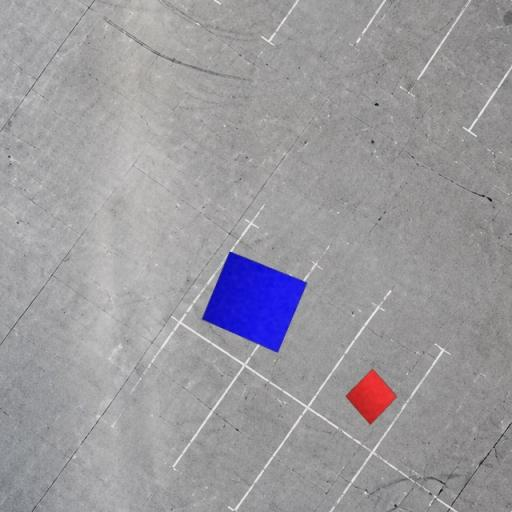BLUE_SQUARE: (201, 250, 308, 354)
RED_SQUARE: (345, 368, 398, 426)
